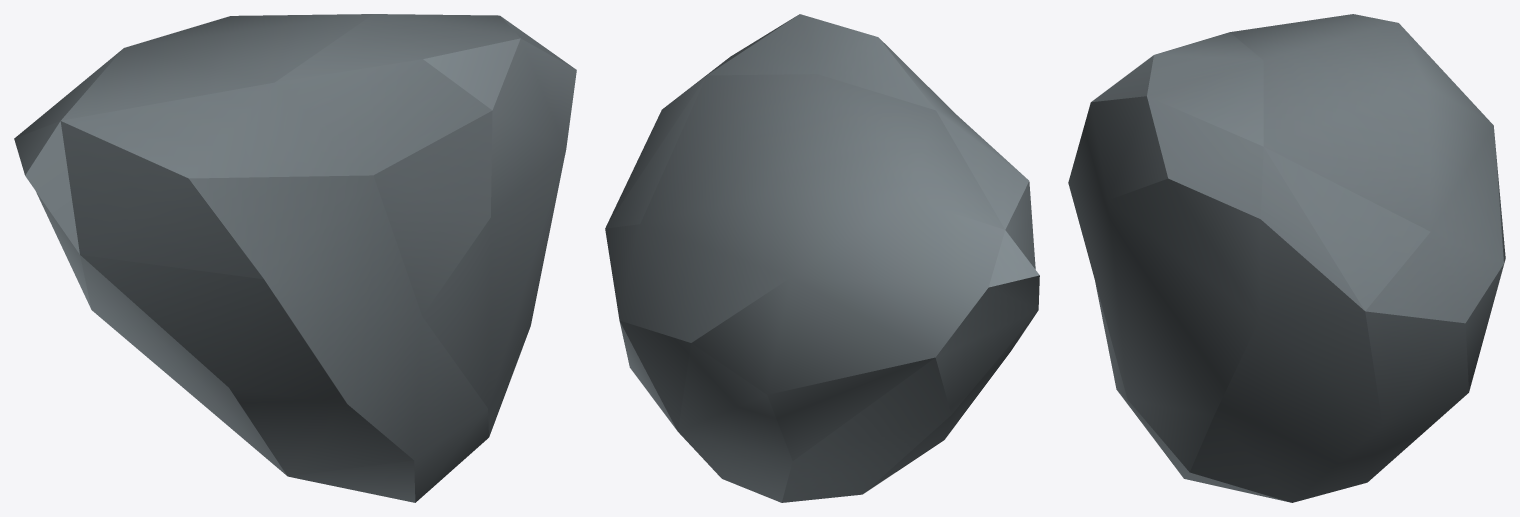
File: Rock_3_A_Color1.glb
3 renders of one model, left to right at view 1: azimuth 30°, elevation 25°; view 2: azimuth 150°, elevation 25°; view 3: azimuth 270°, elevation 25°, orthographic. The views are drawn at different scales.
Parts seen in each view (by area): view 1: Rock_3_A_Color1; view 2: Rock_3_A_Color1; view 3: Rock_3_A_Color1.
Part boxes in pixels (x1,y1,x2,y2): Rock_3_A_Color1: (14,14,576,502); Rock_3_A_Color1: (605,14,1039,502); Rock_3_A_Color1: (1068,14,1505,502).
Size of the model in its own units: 0.9563 by 0.8589 by 0.8075.
1 material, 1 textured.
